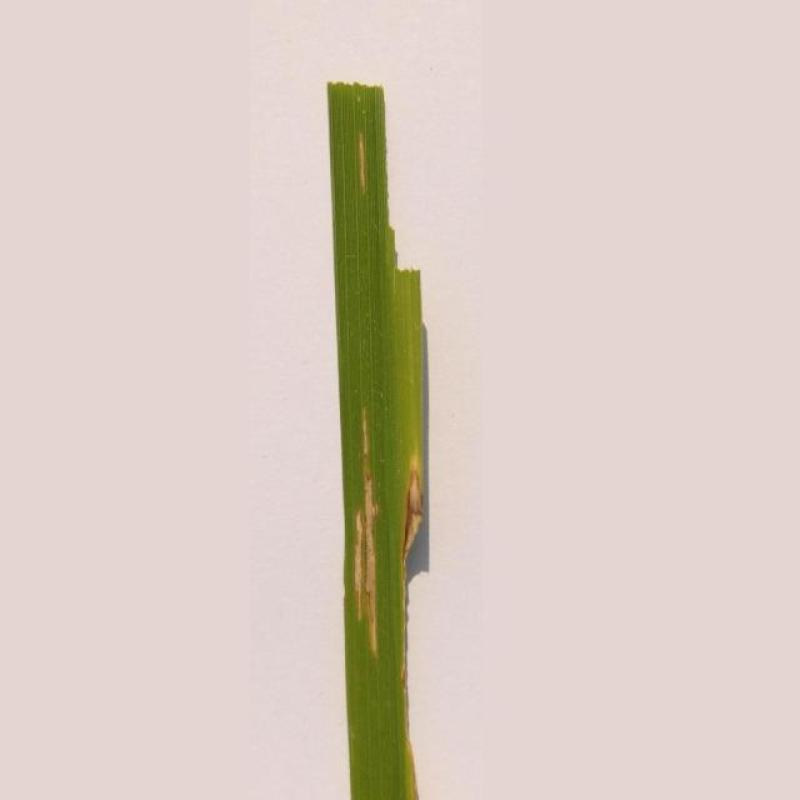Bacterial_Leaf_Blight: (319, 410, 401, 675), (387, 435, 445, 575), (342, 120, 386, 182)
